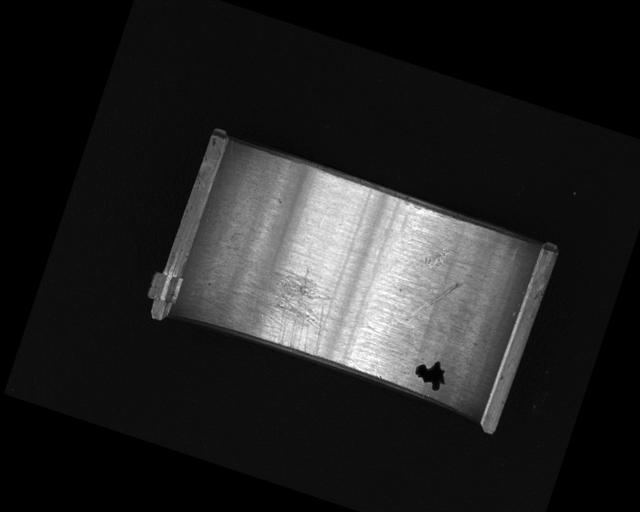blot: (410, 353, 452, 394)
bruise: (422, 242, 451, 272)
nick: (405, 270, 461, 334)
scratch: (203, 241, 344, 358)
